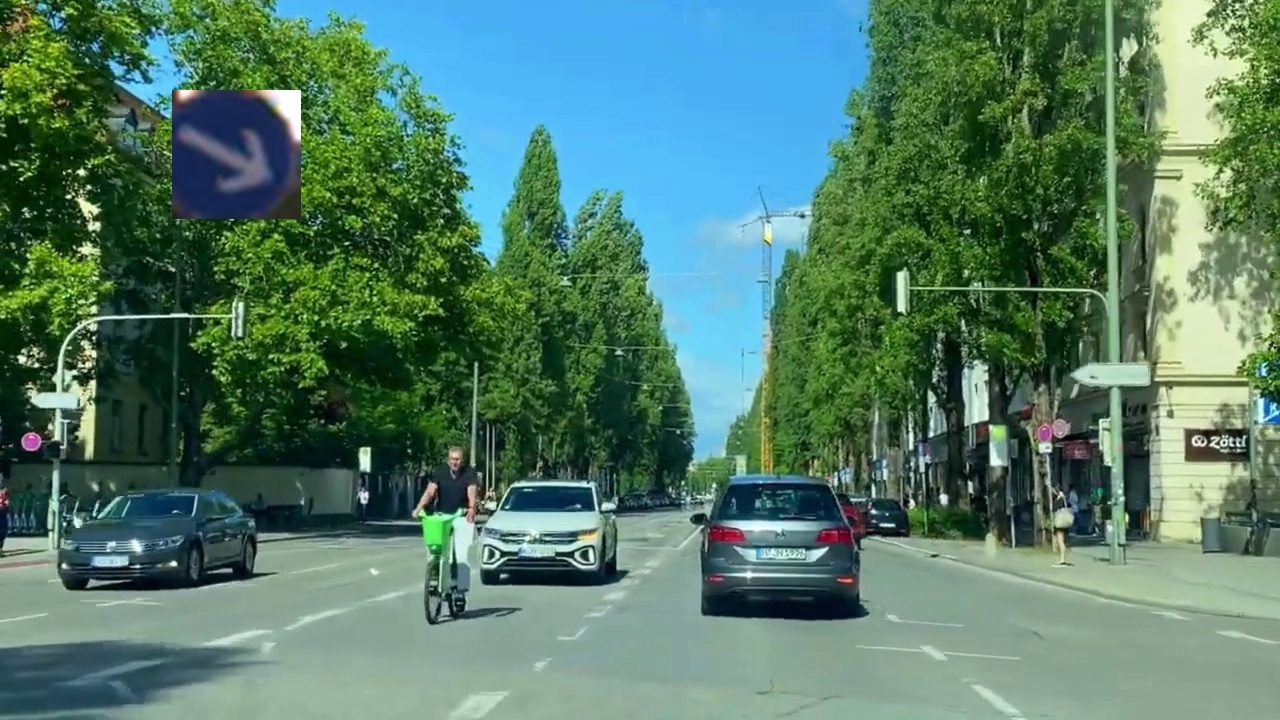Keep right: (172, 90, 301, 219)
